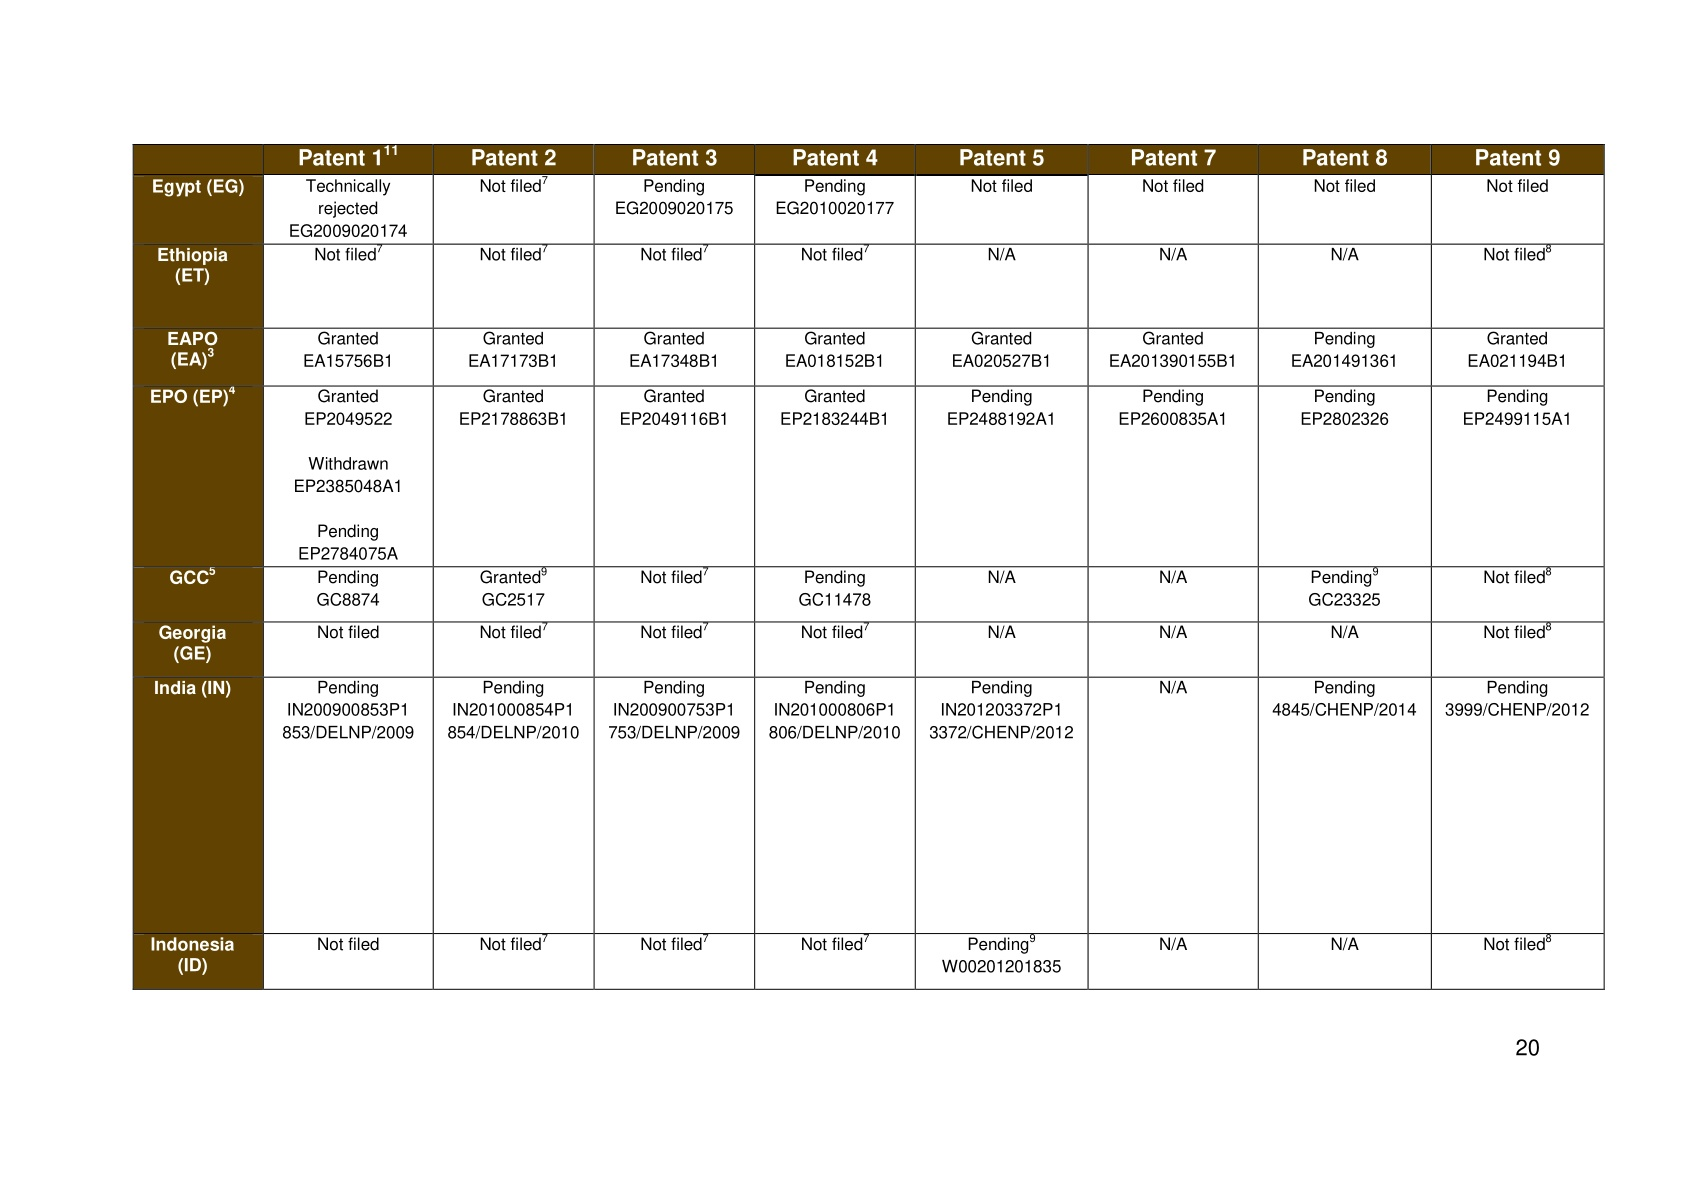full_lined: (131, 143, 1605, 991)
